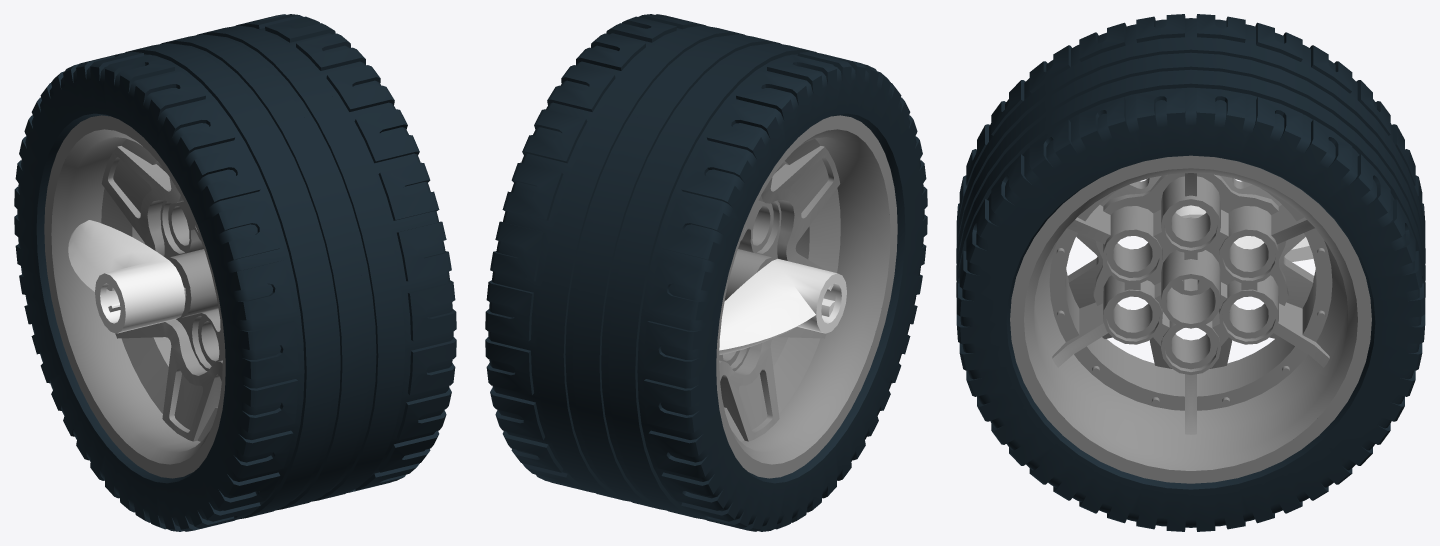
The model's file is modelo_base_diff_wheel_left.dae.
3 views of the same model, side by side, from view 1: azimuth 30°, elevation 25°; view 2: azimuth 150°, elevation 25°; view 3: azimuth 270°, elevation 25° (orthographic). The views are drawn at different scales.
Bounding box in the file's own units: 77 × 140 × 140.
